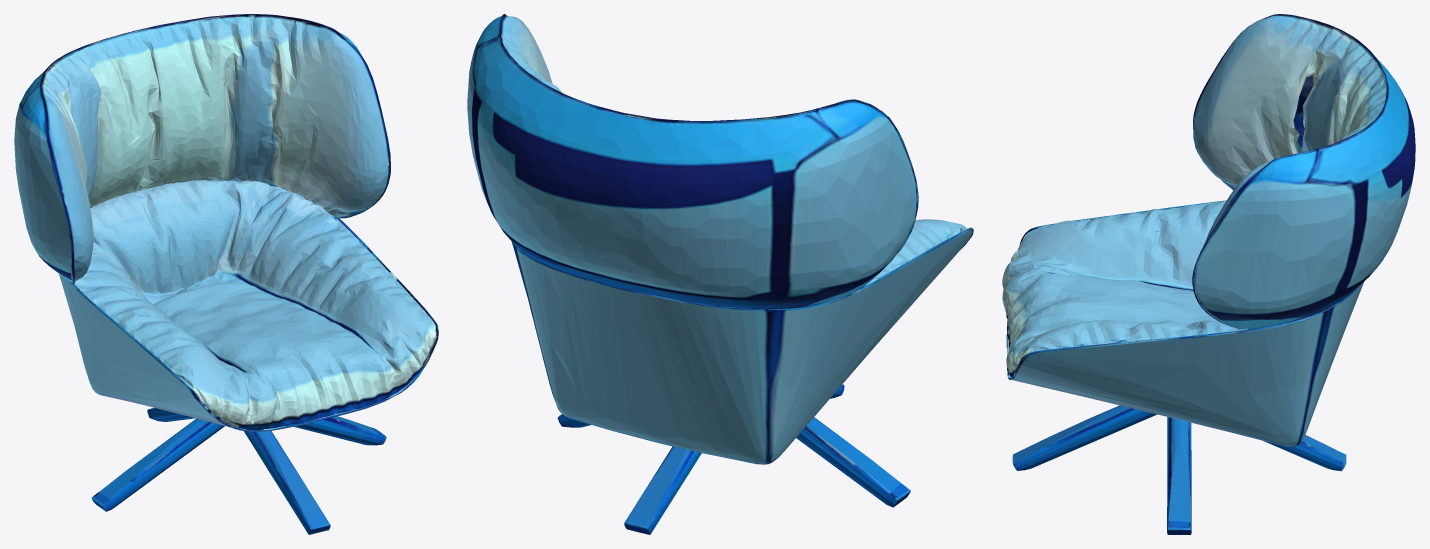
File: edited_mesh.glb
3 renders of one model, left to right at view 1: azimuth 30°, elevation 25°; view 2: azimuth 150°, elevation 25°; view 3: azimuth 270°, elevation 25°, orthographic. The views are drawn at different scales.
Visible parts, largest first — view 1: solid_001_wire; view 2: solid_001_wire; view 3: solid_001_wire.
Part boxes in pixels (left/top/right/bottom): solid_001_wire: left=14, top=14, right=438, bottom=534; solid_001_wire: left=467, top=14, right=973, bottom=534; solid_001_wire: left=1002, top=14, right=1415, bottom=534.
Size of the model in its own units: 1.24 by 1.34 by 1.31.
Materials: 1 (1 with a texture image).
